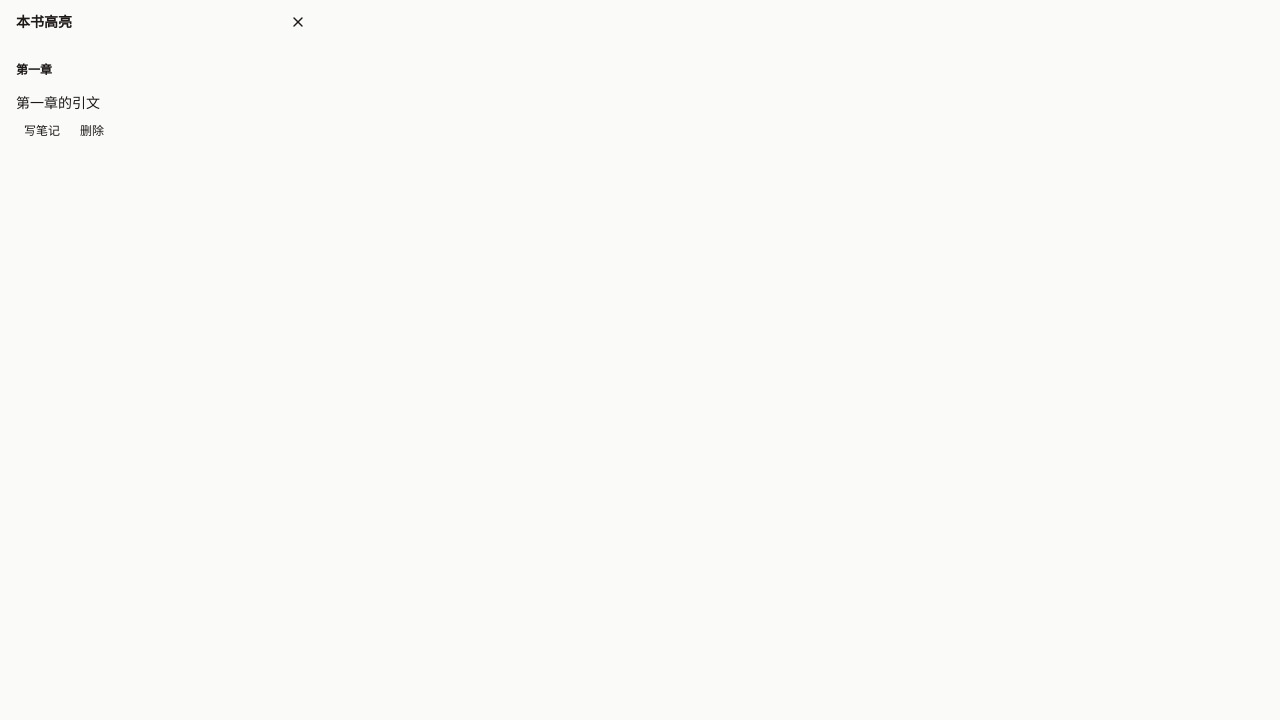
Scenario: HighlightPanel（笔记流） › 无笔记条目点「写笔记」→ 浮层出现 → 提交：service 接管，摘要即时反映
This screenshot has width=1280, height=720.
Click the button titled "写笔记" at (42, 129), box [16,118,68,140]
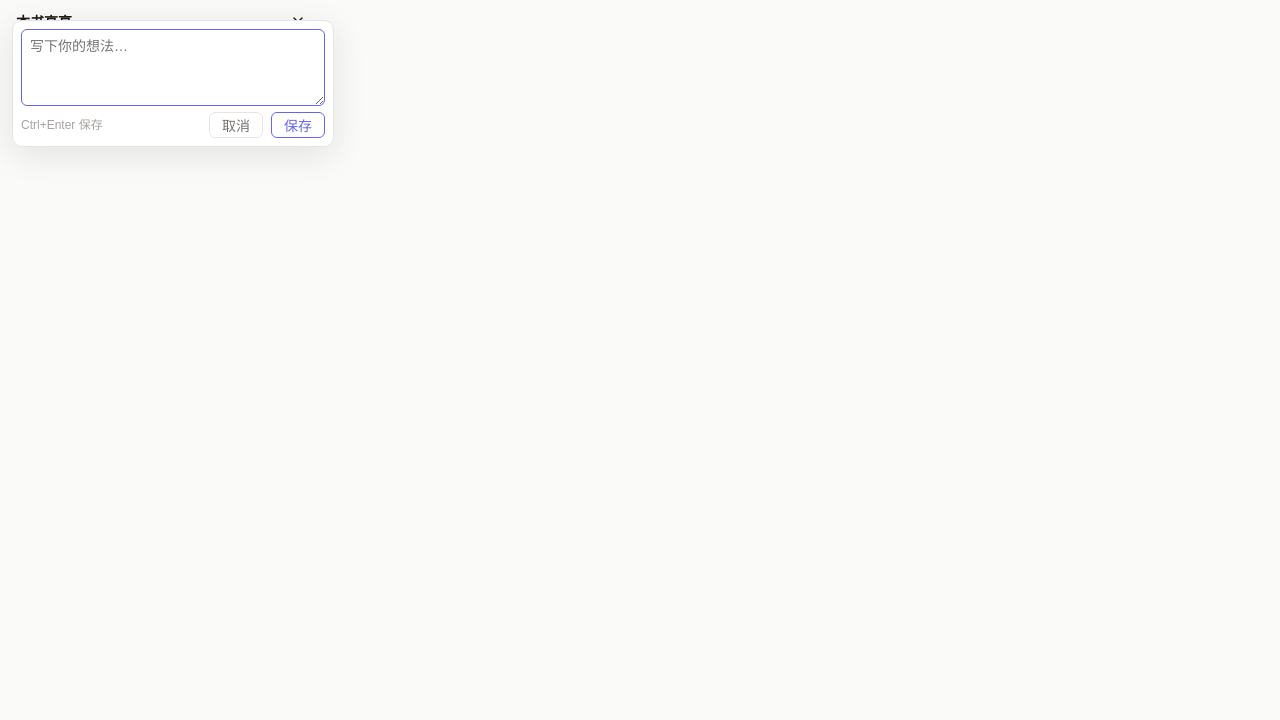
Result: the element with class "note-input-popover" is shown at [13,21,333,146]
Type "新想法" into the text box with placeholder "写下你的想法…" at (173, 68), box [21,29,325,106]
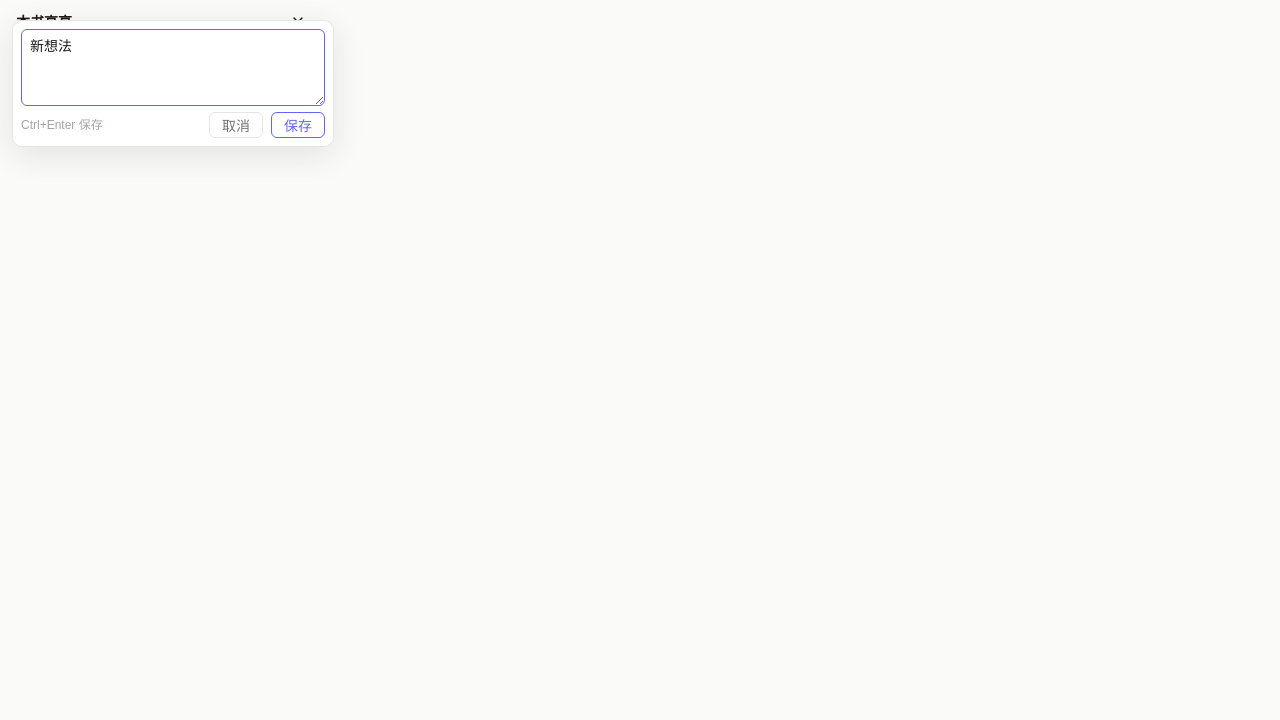
Click the button "保存" at (298, 125), box [271,112,325,138]
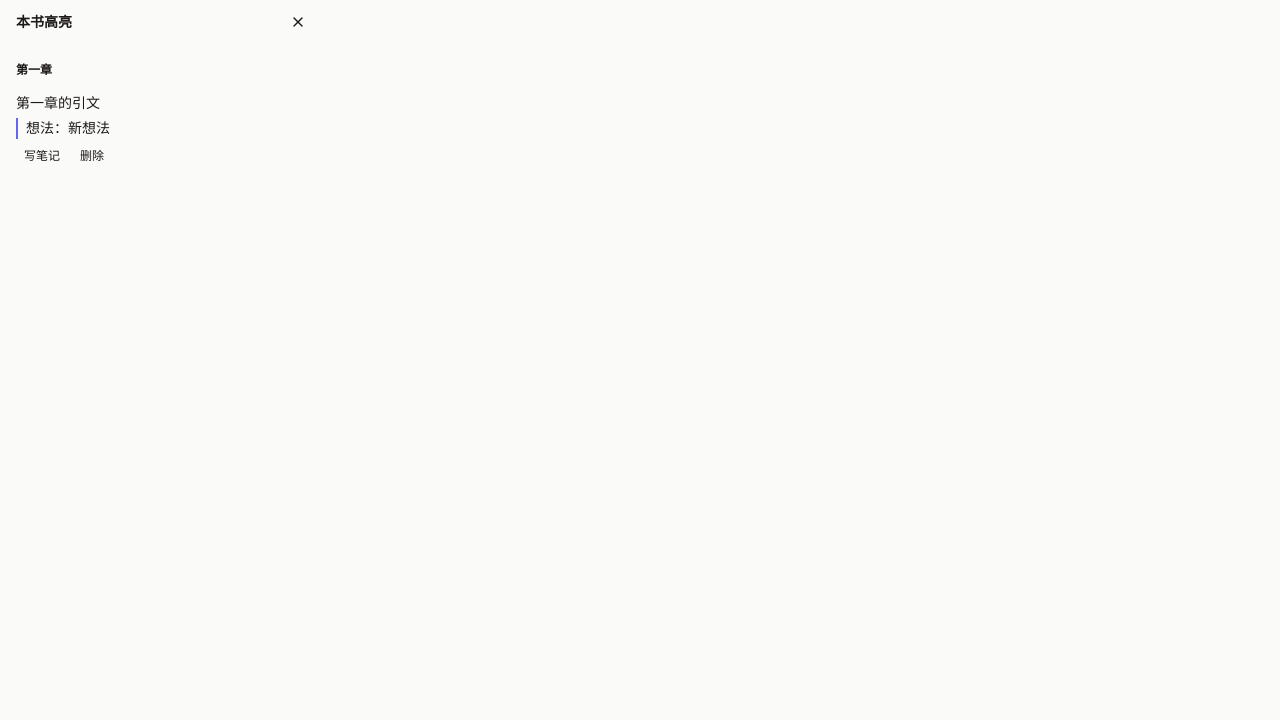
Result: the element with class "note-input-popover" is gone
Result: the text "想法：新想法" is shown at [16,118,308,139]
Result: the text with class "item-note" shows "新想法" at [26,120,110,136]
